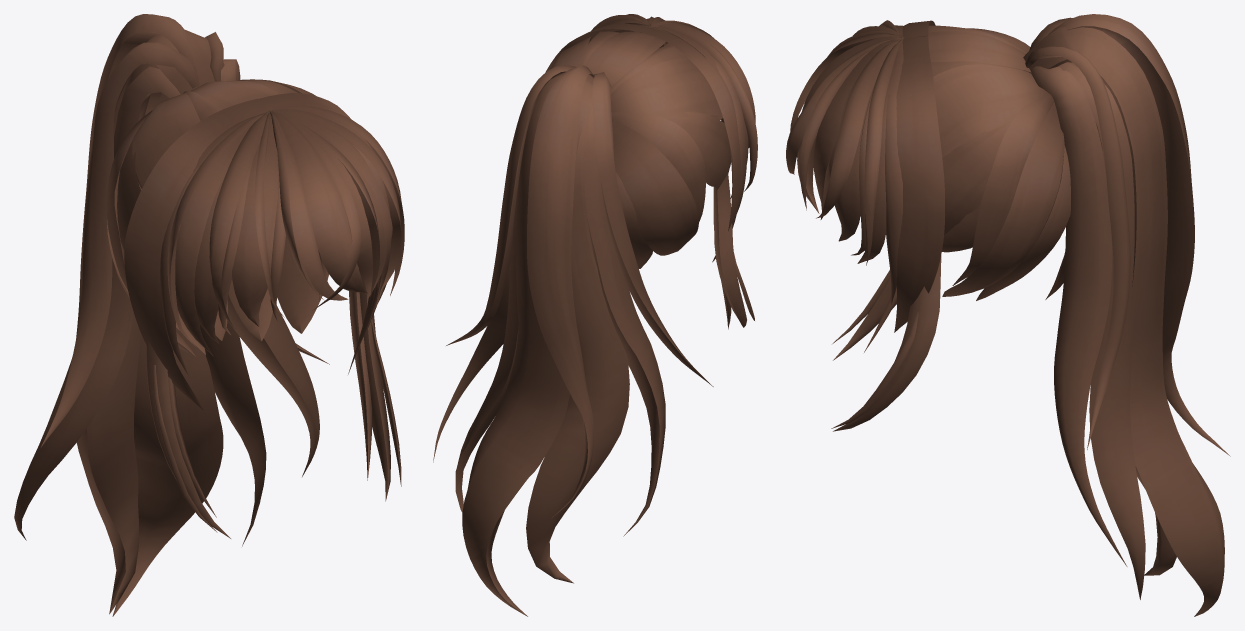
Rendered from vroid_hair5.glb.
The picture shows the model from 3 angles, left to right: view 1: azimuth 30°, elevation 25°; view 2: azimuth 150°, elevation 25°; view 3: azimuth 270°, elevation 25°; orthographic projection. The views are drawn at different scales.
Parts seen in each view (by area): view 1: hair; view 2: hair; view 3: hair.
Boxes of the visible parts, <box> form: hair: <box>14,14,404,616</box>; hair: <box>433,14,757,616</box>; hair: <box>786,14,1230,616</box>.
Bounding box in the file's own units: 0.2609 × 0.5122 × 0.3438.
Materials: 1 (1 with a texture image).
